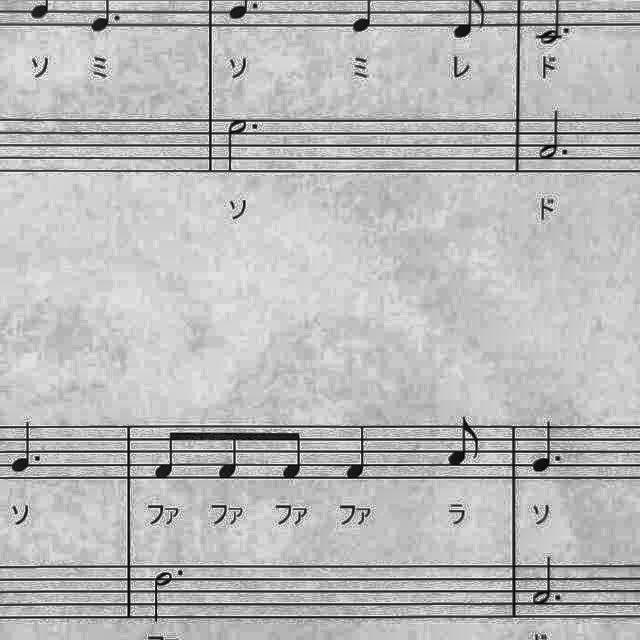Eighth-note: (442, 413, 484, 471), (149, 424, 183, 488), (277, 421, 311, 484), (213, 422, 244, 486)
Half-dot: (222, 112, 266, 178), (146, 562, 187, 626), (527, 550, 569, 610), (536, 108, 576, 164)
Quarter-dot: (528, 419, 572, 477), (9, 412, 46, 480)
Quarter-note: (338, 420, 374, 482)
